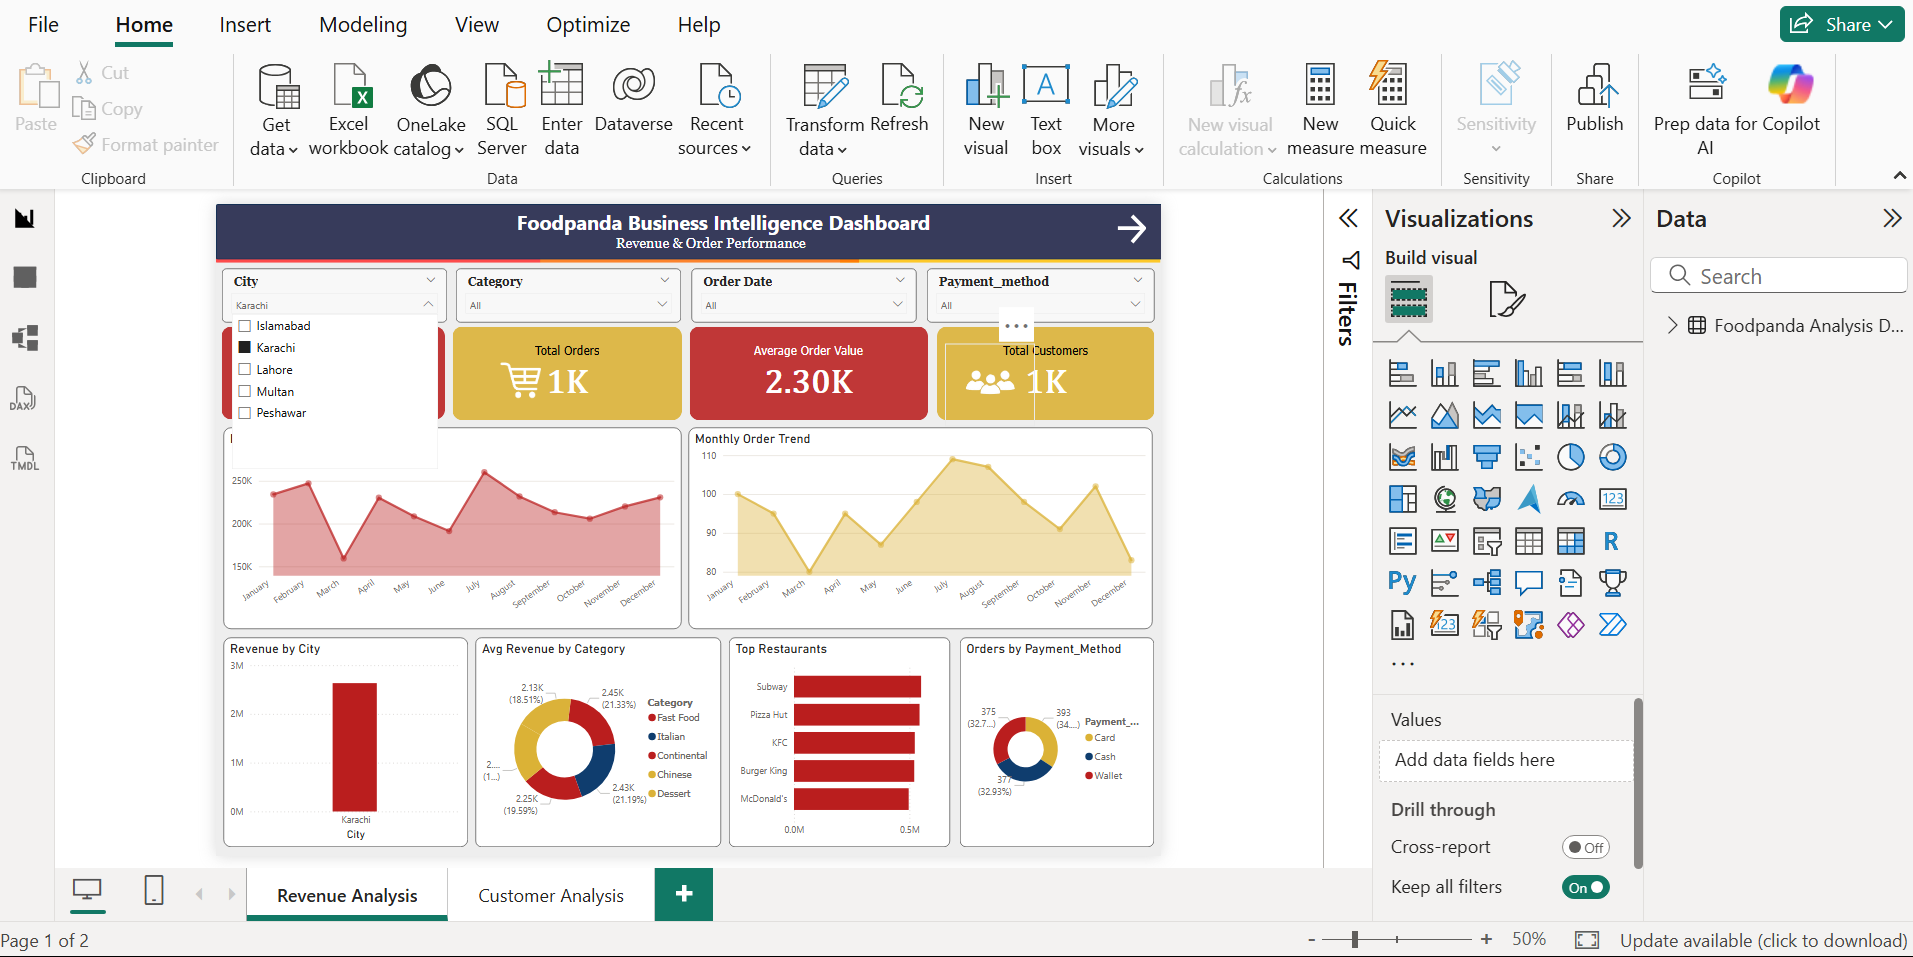

This screenshot's page, from the dashboard's own definition file:
{"tool":"powerbi","page":{"name":"Revenue Analysis","canvas":[1260,869],"ordinal":0},"visuals":[{"type":"shape","box":[832.4,69,427.6,10.3],"z":0},{"type":"shape","box":[431,69,425.9,10.3],"z":1000},{"type":"shape","box":[0,69,432.8,10.3],"z":2000},{"type":"shape","box":[0,0,1279.3,74.1],"z":3000},{"type":"textbox","box":[395,0,580,61.7],"z":4000},{"type":"textbox","box":[528.3,36.7,270,38.3],"z":5000},{"type":"cardVisual","fields":{"Data":["Foodpanda Analysis Dataset.Total Revenue"]},"box":[2,158,308,134],"z":6000},{"type":"cardVisual","fields":{"Data":["Foodpanda Analysis Dataset.Total Orders"]},"box":[310,158,316.7,135],"z":7000},{"type":"cardVisual","fields":{"Data":["Foodpanda Analysis Dataset.Average Order Value"]},"box":[626.7,158,328.3,135],"z":8000},{"type":"cardVisual","fields":{"Data":["Foodpanda Analysis Dataset.Total Customers"]},"box":[956.7,158,300,135],"z":9000},{"type":"areaChart","title":"Monthly Revenue Trend","fields":{"Category":["Foodpanda Analysis Dataset.order_date.Variation.Date Hierarchy.Month"],"Y":["Foodpanda Analysis Dataset.Total Revenue"]},"box":[10.2,297.1,610.3,269],"z":10000},{"type":"areaChart","title":"Monthly Order Trend","fields":{"Category":["Foodpanda Analysis Dataset.order_date.Variation.Date Hierarchy.Month"],"Y":["Foodpanda Analysis Dataset.Total Orders"]},"box":[630.9,297.1,619,269],"z":11000},{"type":"columnChart","title":"Revenue by City","fields":{"Category":["Foodpanda Analysis Dataset.city"],"Y":["Sum(Foodpanda Analysis Dataset.Revenue)"]},"box":[10.2,578.2,325.9,279.3],"z":12000},{"type":"donutChart","title":"Avg Revenue by Category","fields":{"Category":["Foodpanda Analysis Dataset.category"],"Y":["Foodpanda Analysis Dataset.Average Revenue"]},"box":[346.5,578.2,327.6,279.3],"z":13000},{"type":"clusteredBarChart","title":"Top Restaurants","fields":{"Category":["Foodpanda Analysis Dataset.restaurant_name"],"Y":["Sum(Foodpanda Analysis Dataset.Revenue)"]},"box":[684.4,578.2,294.8,279.3],"z":14000},{"type":"donutChart","title":"Orders by Payment_Method","fields":{"Category":["Foodpanda Analysis Dataset.payment_method"],"Y":["Foodpanda Analysis Dataset.Total Orders"]},"box":[991.3,578.2,258.6,279.3],"z":15000},{"type":"actionButton","box":[1196.6,6.9,48.3,55.2],"z":16000},{"type":"slicer","fields":{"Values":["Foodpanda Analysis Dataset.City"]},"box":[8,86,300,72],"z":17000},{"type":"slicer","fields":{"Values":["Foodpanda Analysis Dataset.Category"]},"box":[320,86,300,72],"z":18000},{"type":"slicer","fields":{"Values":["Foodpanda Analysis Dataset.payment_method"]},"box":[948,86,303,72],"z":19000},{"type":"slicer","fields":{"Values":["Foodpanda Analysis Dataset.order_date.Variation.Date Hierarchy.Year","Foodpanda Analysis Dataset.order_date.Variation.Date Hierarchy.Quarter","Foodpanda Analysis Dataset.order_date.Variation.Date Hierarchy.Month"]},"box":[634,86,300,72],"z":20000},{"type":"image","box":[972,186,120,110],"z":21000},{"type":"image","box":[374,194,64,82],"z":21001},{"type":"image","box":[8,196,82,76],"z":21002}]}

Visuals, with their boxes on the page's 1260x869 design canvas (x1, y1, x2, y2). These are canvas units, not pixel positions in the 1913x957 screenshot, which may show the page scaled, cropped or inside an application window:
shape: [left=832, top=69, right=1260, bottom=79]
shape: [left=431, top=69, right=857, bottom=79]
shape: [left=0, top=69, right=433, bottom=79]
shape: [left=0, top=0, right=1279, bottom=74]
textbox: [left=395, top=0, right=975, bottom=62]
textbox: [left=528, top=37, right=798, bottom=75]
cardVisual - Foodpanda Analysis Dataset.Total Revenue: [left=2, top=158, right=310, bottom=292]
cardVisual - Foodpanda Analysis Dataset.Total Orders: [left=310, top=158, right=627, bottom=293]
cardVisual - Foodpanda Analysis Dataset.Average Order Value: [left=627, top=158, right=955, bottom=293]
cardVisual - Foodpanda Analysis Dataset.Total Customers: [left=957, top=158, right=1257, bottom=293]
"Monthly Revenue Trend" areaChart: [left=10, top=297, right=620, bottom=566]
"Monthly Order Trend" areaChart: [left=631, top=297, right=1250, bottom=566]
"Revenue by City" columnChart: [left=10, top=578, right=336, bottom=858]
"Avg Revenue by Category" donutChart: [left=346, top=578, right=674, bottom=858]
"Top Restaurants" clusteredBarChart: [left=684, top=578, right=979, bottom=858]
"Orders by Payment_Method" donutChart: [left=991, top=578, right=1250, bottom=858]
actionButton: [left=1197, top=7, right=1245, bottom=62]
slicer - Foodpanda Analysis Dataset.City: [left=8, top=86, right=308, bottom=158]
slicer - Foodpanda Analysis Dataset.Category: [left=320, top=86, right=620, bottom=158]
slicer - Foodpanda Analysis Dataset.payment_method: [left=948, top=86, right=1251, bottom=158]
slicer - Foodpanda Analysis Dataset.order_date.Variation.Date Hierarchy.Year x Foodpanda Analysis Dataset.order_date.Variation.Date Hierarchy.Quarter: [left=634, top=86, right=934, bottom=158]
image: [left=972, top=186, right=1092, bottom=296]
image: [left=374, top=194, right=438, bottom=276]
image: [left=8, top=196, right=90, bottom=272]
